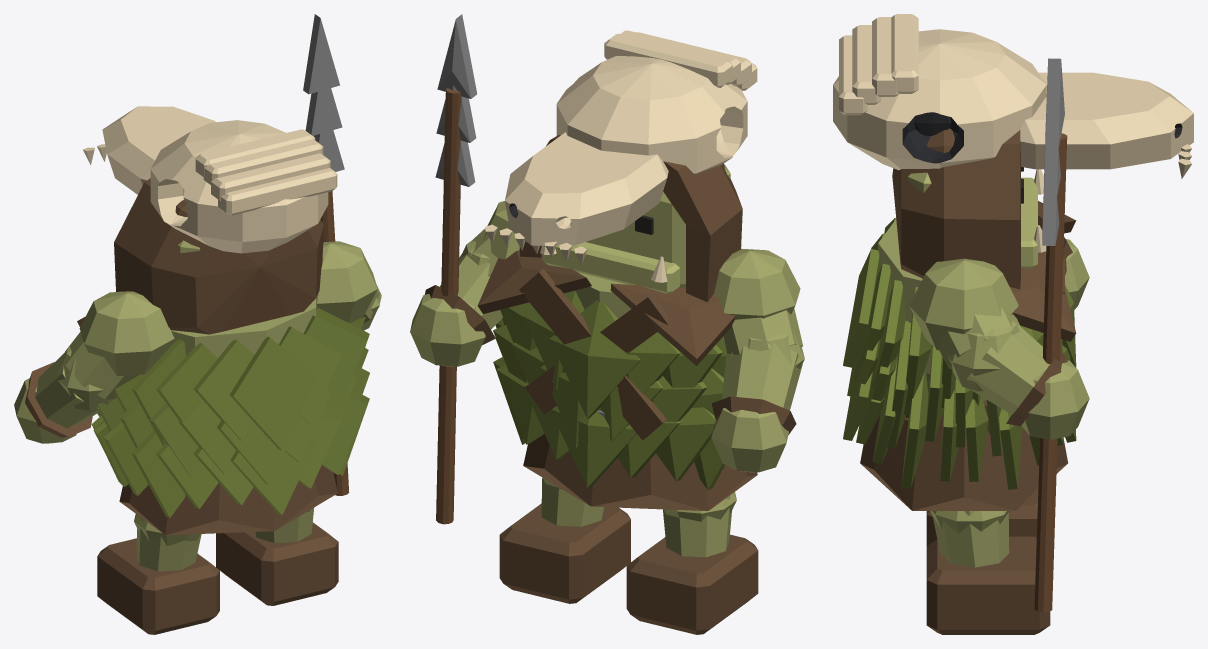
Rendered from host_07.glb.
The picture shows the model from 3 angles, left to right: view 1: azimuth 30°, elevation 25°; view 2: azimuth 150°, elevation 25°; view 3: azimuth 270°, elevation 25°; orthographic projection. The views are drawn at different scales.
Parts seen in each view (by area): view 1: V6 source fitted domed cloth hood, V6 marsh actual carved crocodile skull hood actual carved cr, Grounded boot L, Grounded boot R, V6 marsh actual contacting stepped rear ivory skull ridge.00 (×3), Leather ragged skirt, Connected shoulder L, V6 marsh dense contacting wraparound reed leaf mantle.009, V6 marsh actual tapered long skull snout, Connected shoulder R, V6 marsh dense contacting wraparound reed leaf mantle.010, Tailored continuous bodice (+32 smaller); view 2: V6 marsh actual carved crocodile skull hood actual carved cr, V6 marsh actual tapered long skull snout, Grounded boot L, Grounded boot R, Leather ragged skirt, V6 source fitted domed cloth hood, V6 source continuous held spear shaft, V6 marsh dense contacting wraparound reed leaf mantle, Connected shoulder L, Shoulder folded cape, Crossed leather baldric R, Grasping hand L (+37 smaller); view 3: V6 marsh actual carved crocodile skull hood actual carved cr, V6 source fitted domed cloth hood, V6 marsh actual tapered long skull snout, Grounded boot R, Leather ragged skirt, V6 source continuous held spear shaft, Connected shoulder R, V6 marsh actual contacting stepped rear ivory skull ridge.00 (×3), Forearm R, Grasping hand R, Lower leg R, Shoulder folded cape.001 (+30 smaller).
Part boxes in pixels (<box>): V6 source fitted domed cloth hood: <box>114,178,323,334</box>; V6 marsh actual carved crocodile skull hood actual carved cr: <box>150,120,328,253</box>; Grounded boot L: <box>97,538,219,634</box>; Grounded boot R: <box>216,522,338,605</box>; V6 marsh actual contacting stepped rear ivory skull ridge.00 (×3): <box>203,139,337,215</box>; Leather ragged skirt: <box>119,465,337,535</box>; Connected shoulder L: <box>79,291,174,375</box>; V6 marsh dense contacting wraparound reed leaf mantle.009: <box>229,336,317,450</box>; V6 marsh actual tapered long skull snout: <box>102,106,215,194</box>; Connected shoulder R: <box>315,241,377,323</box>; V6 marsh dense contacting wraparound reed leaf mantle.010: <box>193,339,254,440</box>; Tailored continuous bodice: <box>170,299,316,357</box>; V6 marsh actual carved crocodile skull hood actual carved cr: <box>556,56,747,173</box>; V6 marsh actual tapered long skull snout: <box>505,132,668,245</box>; Grounded boot L: <box>626,534,758,634</box>; Grounded boot R: <box>499,503,630,603</box>; Leather ragged skirt: <box>523,434,757,510</box>; V6 source fitted domed cloth hood: <box>519,135,742,301</box>; V6 source continuous held spear shaft: <box>436,88,461,524</box>; V6 marsh dense contacting wraparound reed leaf mantle: <box>549,300,640,418</box>; Connected shoulder L: <box>714,248,800,319</box>; Shoulder folded cape: <box>610,283,735,365</box>; Crossed leather baldric R: <box>519,269,666,440</box>; Grasping hand L: <box>711,408,788,472</box>; V6 marsh actual carved crocodile skull hood actual carved cr: <box>833,29,1046,170</box>; V6 source fitted domed cloth hood: <box>892,128,1020,289</box>; V6 marsh actual tapered long skull snout: <box>1020,72,1193,169</box>; Grounded boot R: <box>926,536,1050,634</box>; Leather ragged skirt: <box>860,415,1067,510</box>; V6 source continuous held spear shaft: <box>1034,133,1067,612</box>; Connected shoulder R: <box>909,258,1018,350</box>; V6 marsh actual contacting stepped rear ivory skull ridge.00 (×3): <box>839,17,899,115</box>; Forearm R: <box>966,323,1048,414</box>; Grasping hand R: <box>1021,360,1089,439</box>; Lower leg R: <box>932,512,1009,567</box>; Shoulder folded cape.001: <box>1010,251,1076,341</box>.
Size of the model in its own units: 1.22 by 1.76 by 0.9651.
